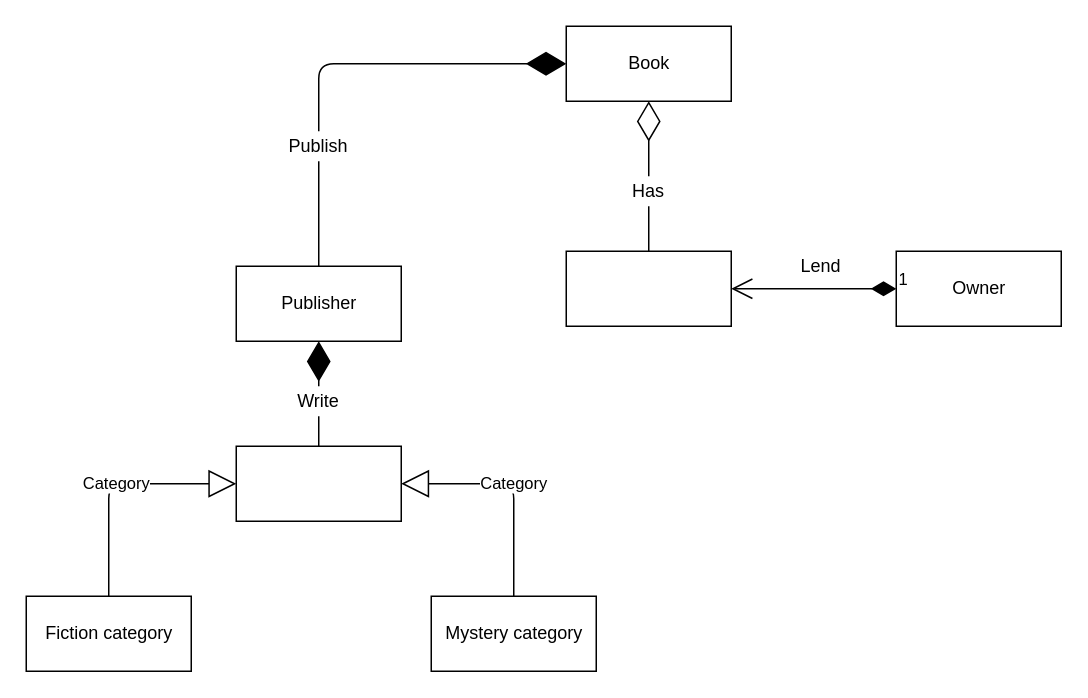
This 1088x698 diagram has some shape labels left out. Here are the shapes that lost their labels. From the top down, the centre of each, then its label:
At point (648, 288): "Library".
At point (318, 483): "Author".
